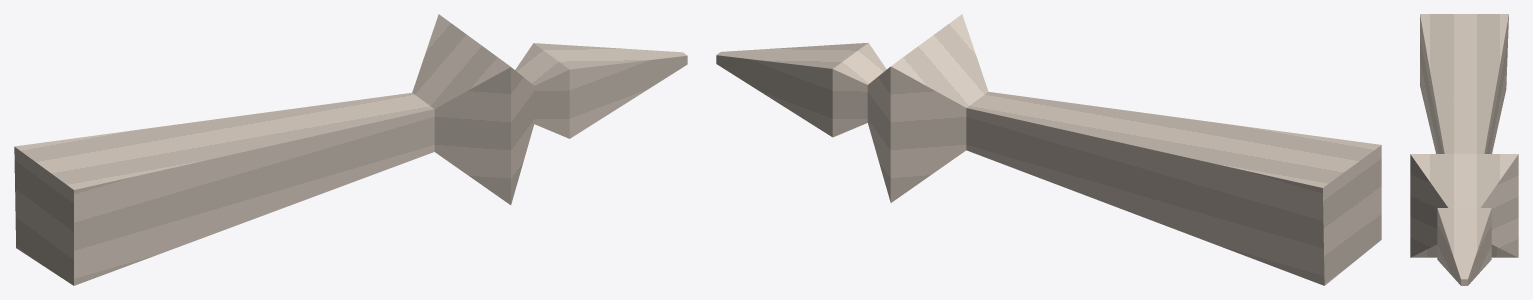
The model's file is Props_Hook.fbx.
3 views of the same model, side by side, from view 1: azimuth 30°, elevation 25°; view 2: azimuth 150°, elevation 25°; view 3: azimuth 270°, elevation 25° (orthographic). The views are drawn at different scales.
Parts seen in each view (by area): view 1: Props_Hook; view 2: Props_Hook; view 3: Props_Hook.
Boxes of the visible parts, x1,y1,x2,y2 form: Props_Hook: (14, 14, 687, 285); Props_Hook: (716, 14, 1381, 285); Props_Hook: (1410, 14, 1518, 285).
Bounding box in the file's own units: 1.99 × 0.4108 × 0.3885.
